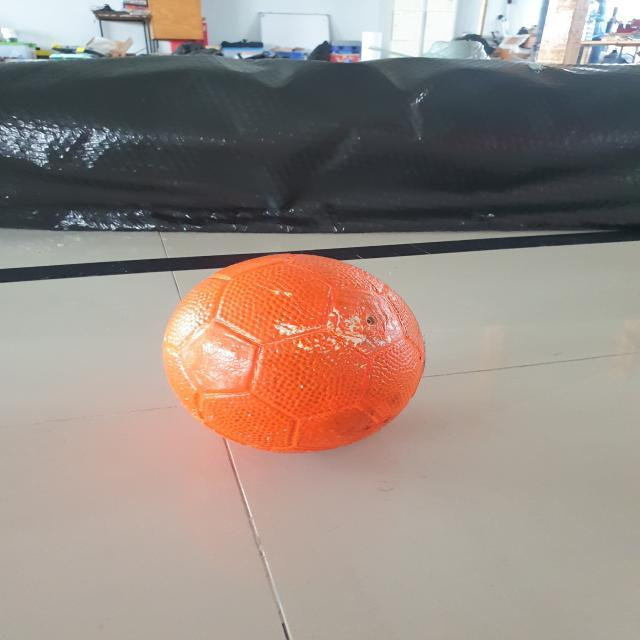bola: (126, 230, 442, 458)
